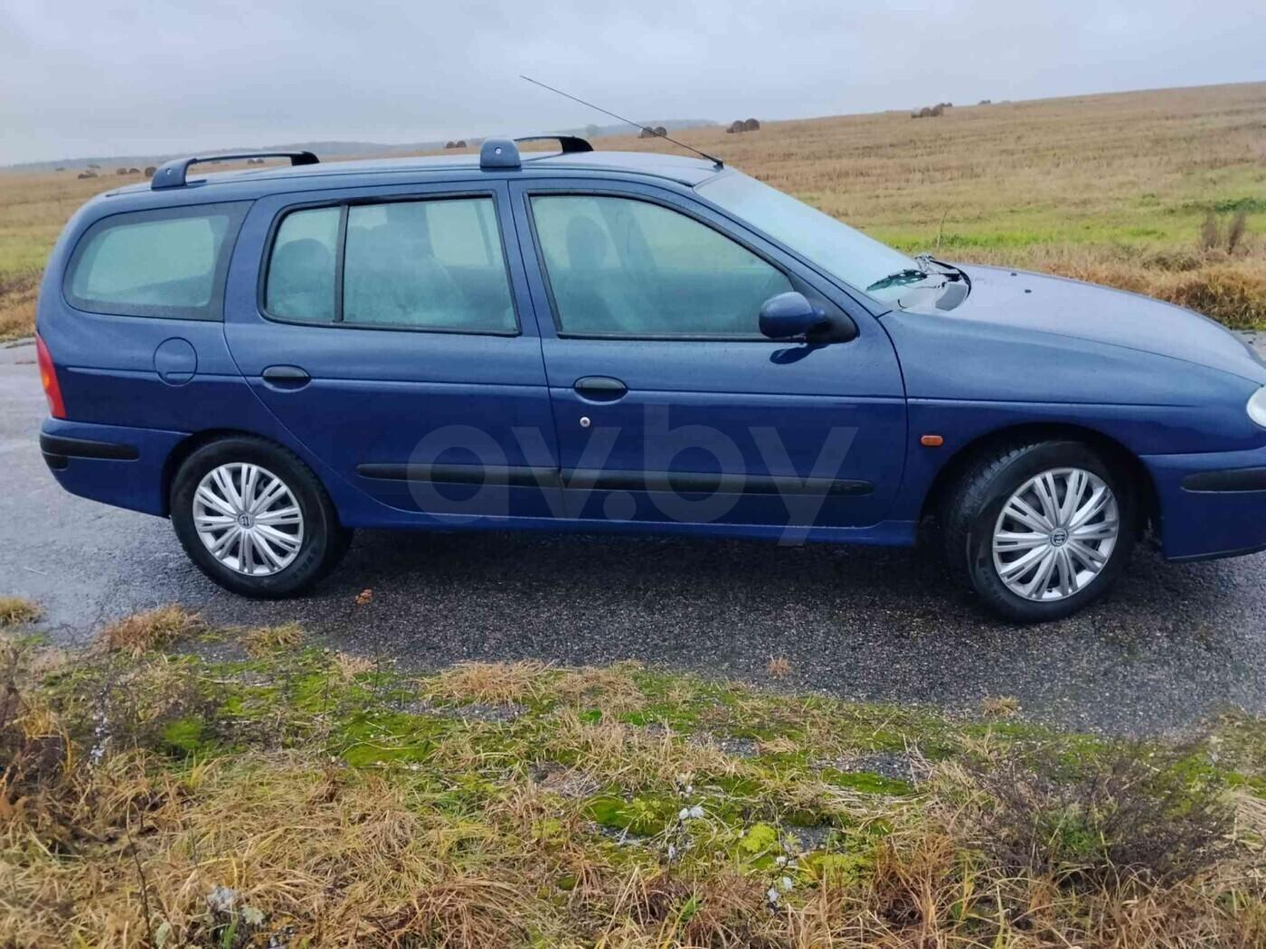Megane_1999-2003: (28, 146, 1266, 631)
